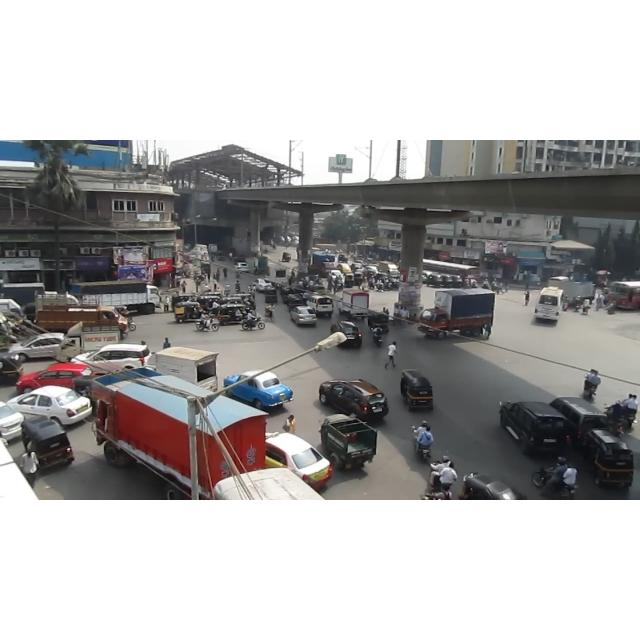auto: (577, 426, 640, 492), (15, 417, 81, 473), (401, 369, 439, 419), (364, 308, 396, 341), (217, 300, 255, 324), (3, 350, 28, 386), (174, 298, 210, 322), (287, 289, 311, 313), (266, 285, 280, 307), (201, 260, 215, 277), (281, 250, 295, 263)
truck: (89, 368, 267, 498), (33, 294, 128, 338), (419, 289, 495, 339), (319, 414, 377, 470), (76, 282, 168, 316), (155, 346, 219, 391), (56, 322, 120, 362), (336, 288, 370, 318), (377, 260, 399, 276), (205, 238, 219, 259)
